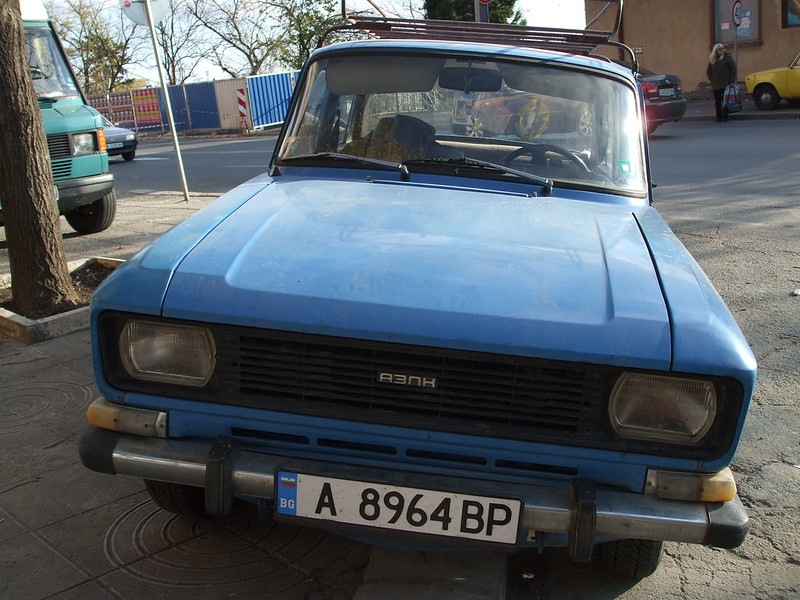number_plate: (261, 460, 534, 551), (654, 82, 684, 101), (104, 140, 133, 154)
